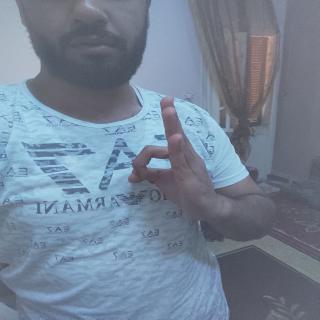Space: (116, 93, 230, 226)
